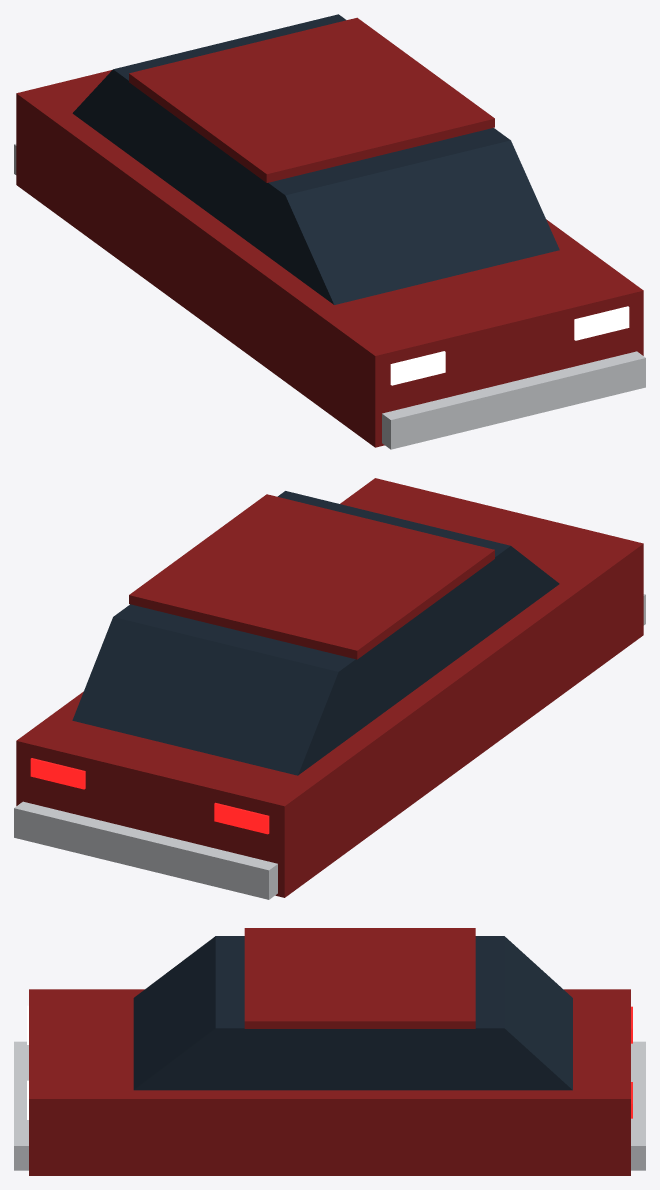
Rendered from sedan.glb.
3 views of the same model, one above another, from view 1: azimuth 30°, elevation 25°; view 2: azimuth 150°, elevation 25°; view 3: azimuth 270°, elevation 25° (orthographic). The views are drawn at different scales.
Visible parts, largest first — view 1: body; view 2: body; view 3: body.
Boxes of the visible parts, x1,y1,x2,y2 form: body: (14,14,645,449); body: (14,478,645,899); body: (14,928,645,1175).
Size of the model in its own units: 1.9 by 1.18 by 4.62.
